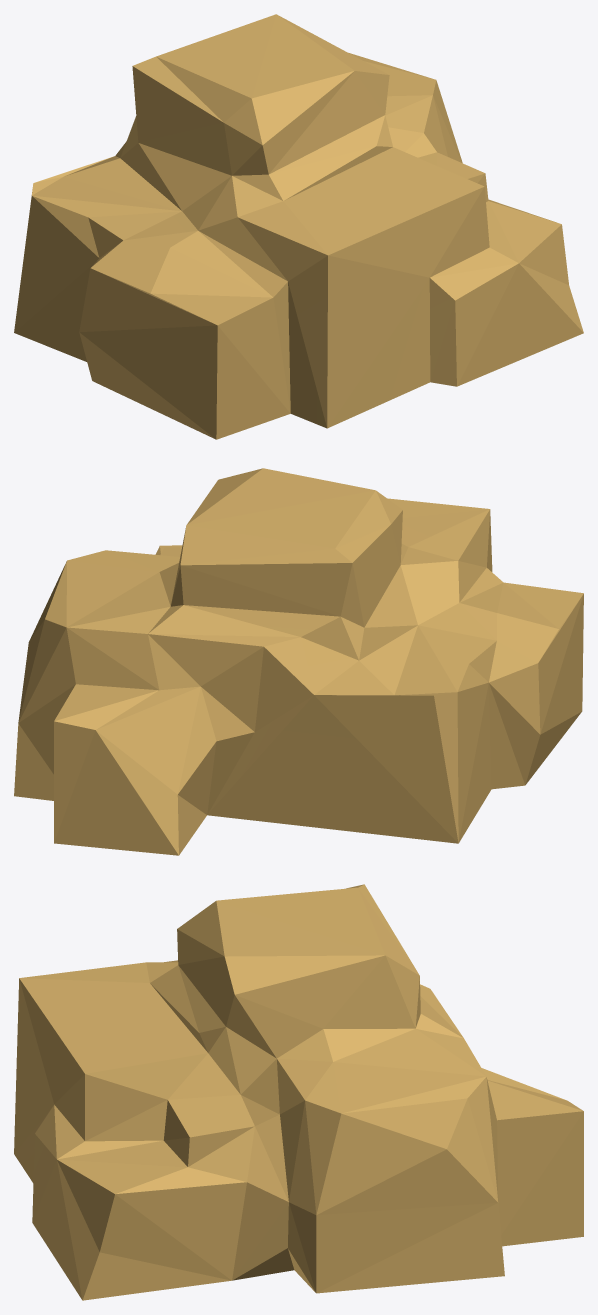
Rendered from SL_Mountain2.fbx.
The picture shows the model from 3 angles, top to bottom: view 1: azimuth 30°, elevation 25°; view 2: azimuth 150°, elevation 25°; view 3: azimuth 270°, elevation 25°; orthographic projection. The views are drawn at different scales.
Parts seen in each view (by area): view 1: crystal_23; view 2: crystal_23; view 3: crystal_23.
Boxes of the visible parts, x1,y1,x2,y2 form: crystal_23: (14,14,583,439); crystal_23: (14,468,583,855); crystal_23: (14,884,583,1300).
Bounding box in the file's own units: 3728 × 2076 × 4056.
